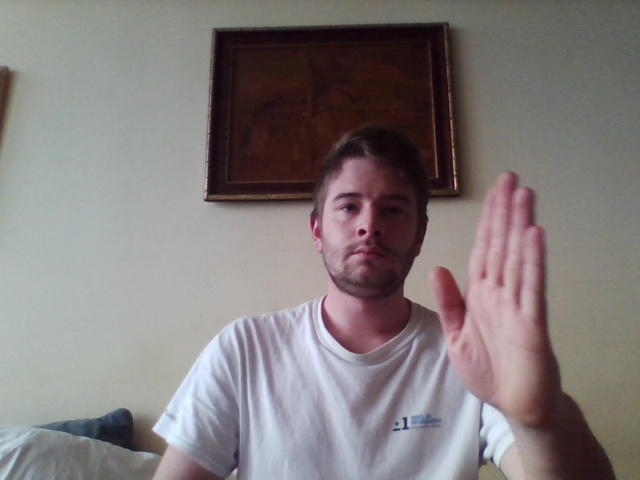pozdrav: (431, 171, 554, 426)
